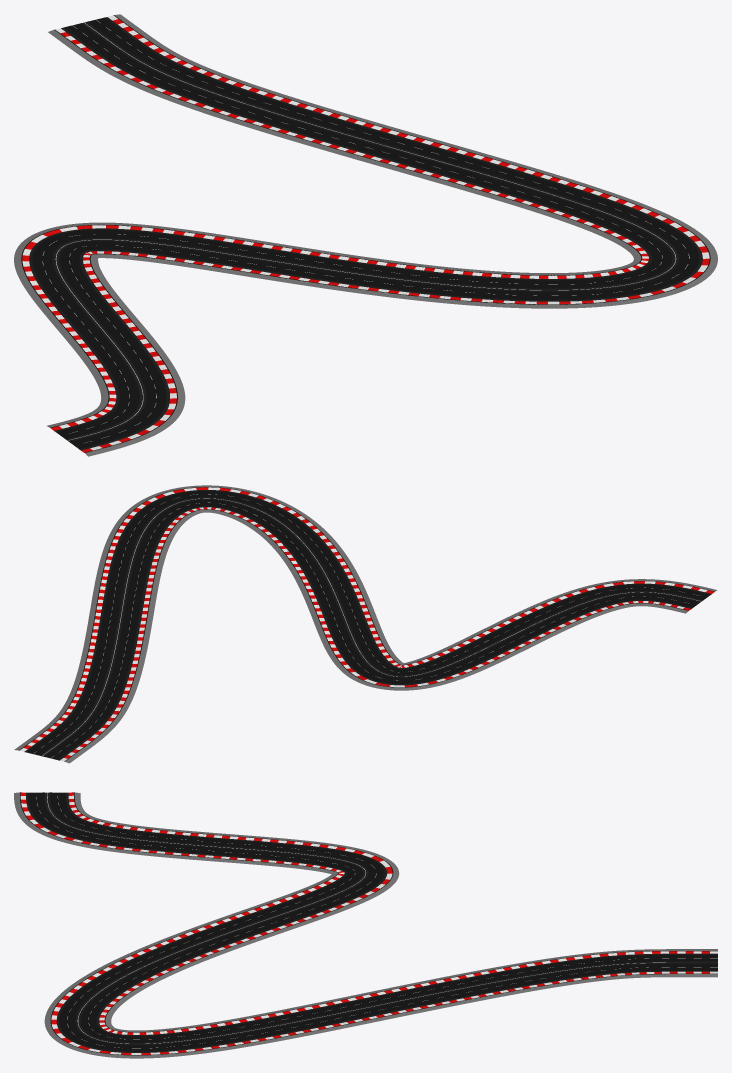
Rendered from S0.3l1-emn.glb.
The picture shows the model from 3 angles, top to bottom: view 1: azimuth 30°, elevation 25°; view 2: azimuth 150°, elevation 25°; view 3: azimuth 270°, elevation 25°; orthographic projection. The views are drawn at different scales.
Parts seen in each view (by area): view 1: Grid; view 2: Grid; view 3: Grid.
Boxes of the visible parts, x1,y1,x2,y2 form: Grid: (14,14,717,456); Grid: (14,485,717,763); Grid: (14,792,717,1058).
Size of the model in its own units: 236 by 0.31 by 265.
